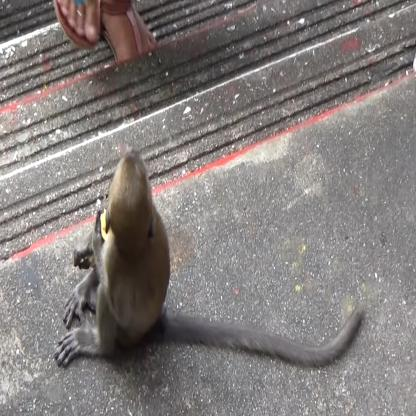monkey: (53, 147, 365, 368)
